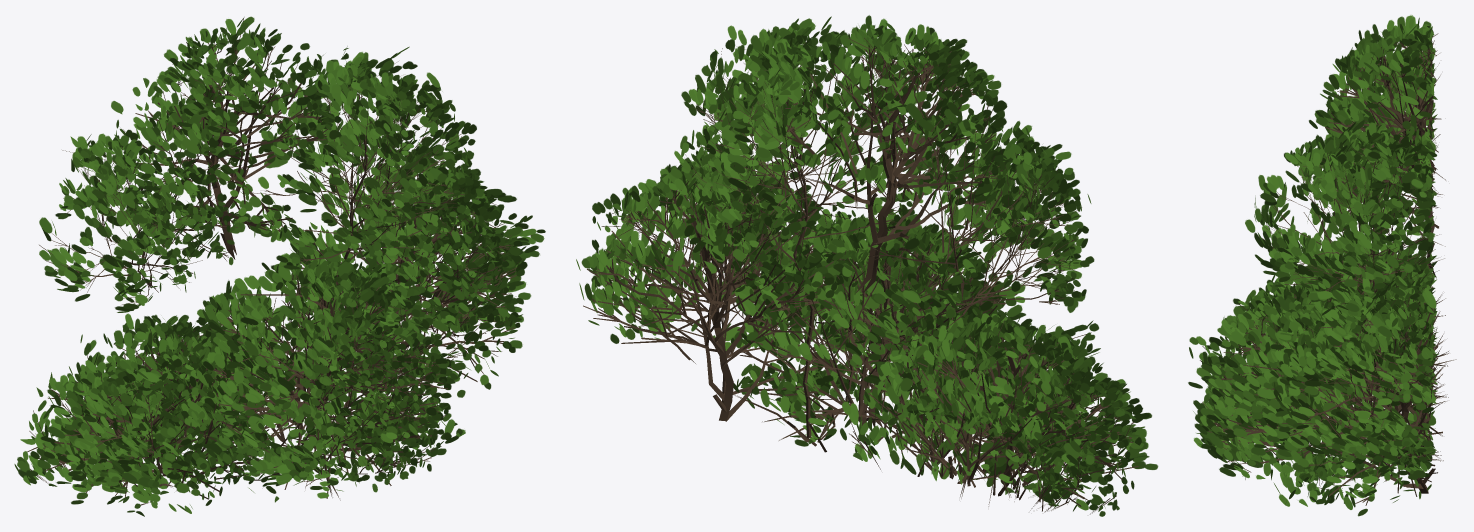
3 renders of one model, left to right at view 1: azimuth 30°, elevation 25°; view 2: azimuth 150°, elevation 25°; view 3: azimuth 270°, elevation 25°, orthographic. The views are drawn at different scales.
Visible parts, largest first — view 1: oak 01.001_trunk_Mat.001_0.170; view 2: oak 01.001_trunk_Mat.001_0.170; view 3: oak 01.001_trunk_Mat.001_0.170.
Part boxes in pixels (box(x1,y1,x2,y2)): oak 01.001_trunk_Mat.001_0.170: box(14, 16, 545, 516); oak 01.001_trunk_Mat.001_0.170: box(576, 15, 1158, 516); oak 01.001_trunk_Mat.001_0.170: box(1188, 15, 1456, 516).
Bounding box in the file's own units: 6.16 × 4.89 × 2.86.
2 materials, 1 textured.
